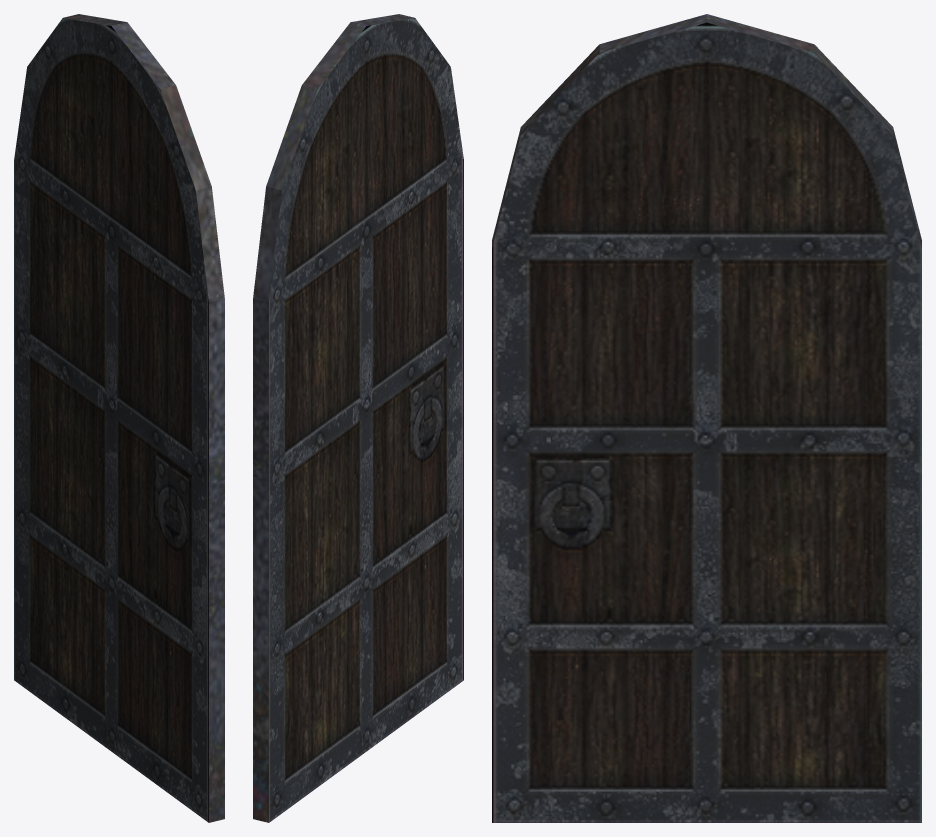
The model's file is StoneWallDoorway_door.FBX.
3 views of the same model, side by side, from view 1: azimuth 30°, elevation 25°; view 2: azimuth 150°, elevation 25°; view 3: azimuth 270°, elevation 25° (orthographic). The views are drawn at different scales.
Visible parts, largest first — view 1: StoneWallDoorway_door; view 2: StoneWallDoorway_door; view 3: StoneWallDoorway_door.
Boxes of the visible parts, x1,y1,x2,y2 form: StoneWallDoorway_door: (14,14,224,822); StoneWallDoorway_door: (253,14,463,822); StoneWallDoorway_door: (492,14,921,822).
Size of the model in its own units: 0.9492 by 41.1 by 20.01.
Materials: 1 (1 with a texture image).
